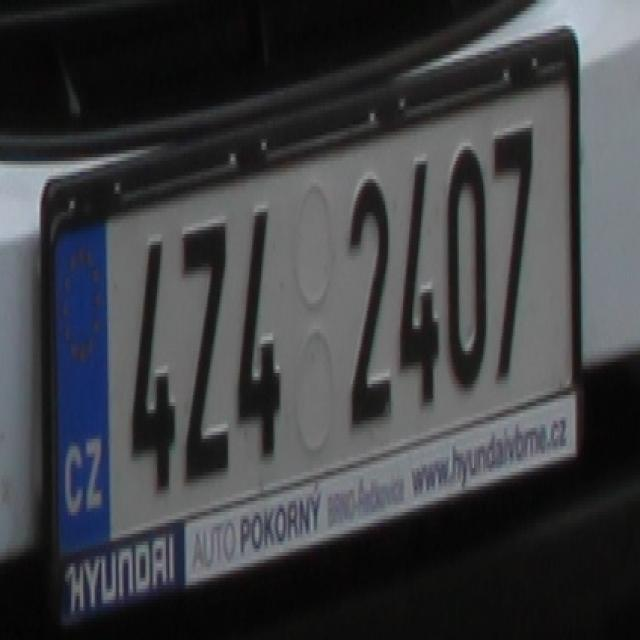0: (444, 146, 489, 384)
2: (349, 176, 394, 432)
4: (235, 212, 287, 468), (124, 238, 176, 482), (397, 153, 438, 410)
7: (489, 113, 536, 377)
Z: (180, 220, 231, 476)
